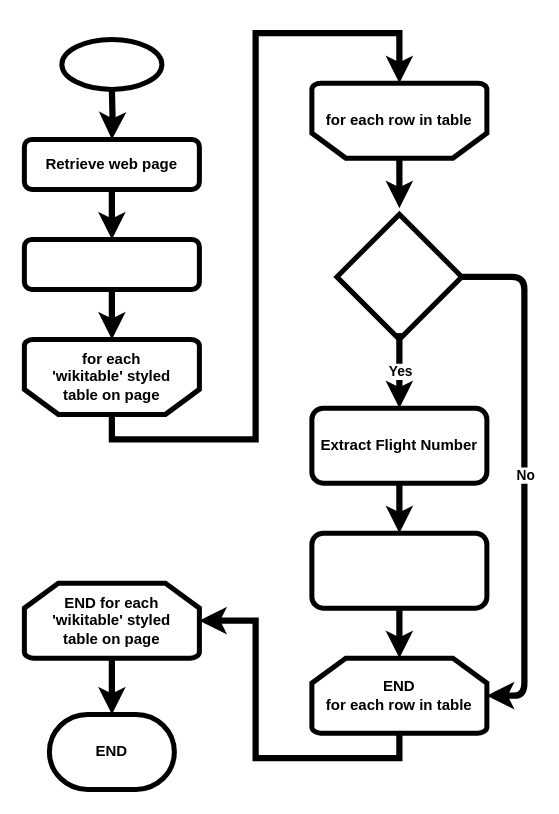
This 559x814 diagram has some shape labels left out. The box of each missing label's shape, as (x1, y1, x2, y2) in pixels:
Extract data from td cells in row: (309, 530, 489, 610)
Parse using BeautifulSoup: (21, 236, 201, 291)
row has th element?: (334, 211, 464, 341)
START: (59, 36, 164, 91)
